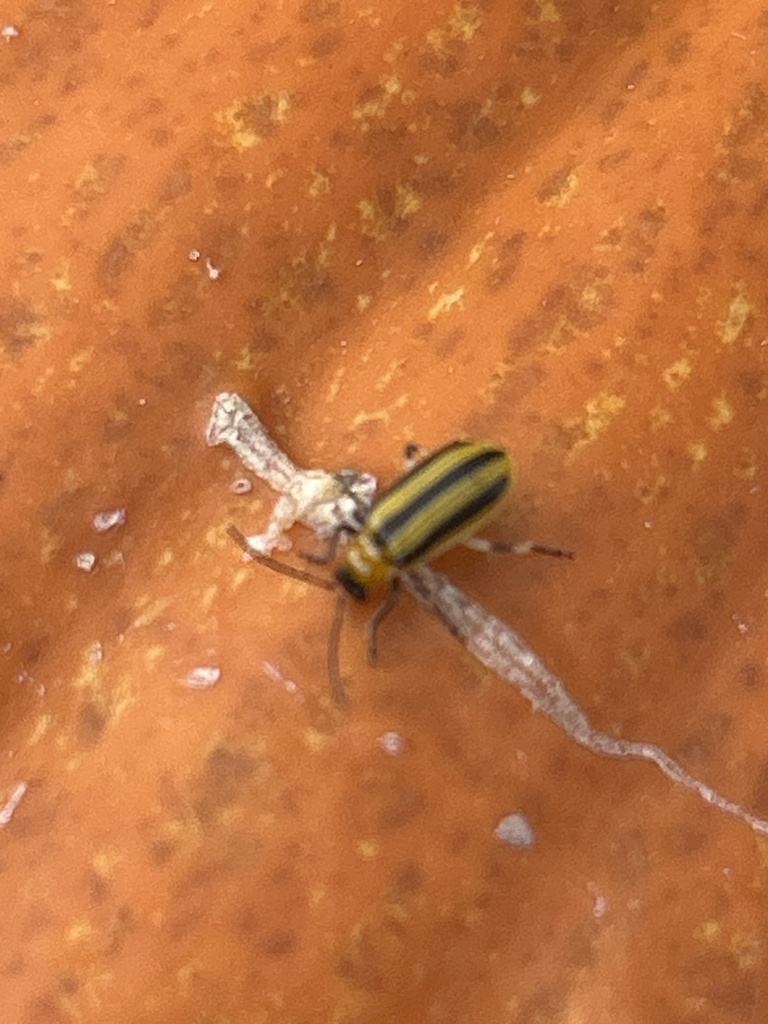potato_beetle: (162, 336, 669, 783)
